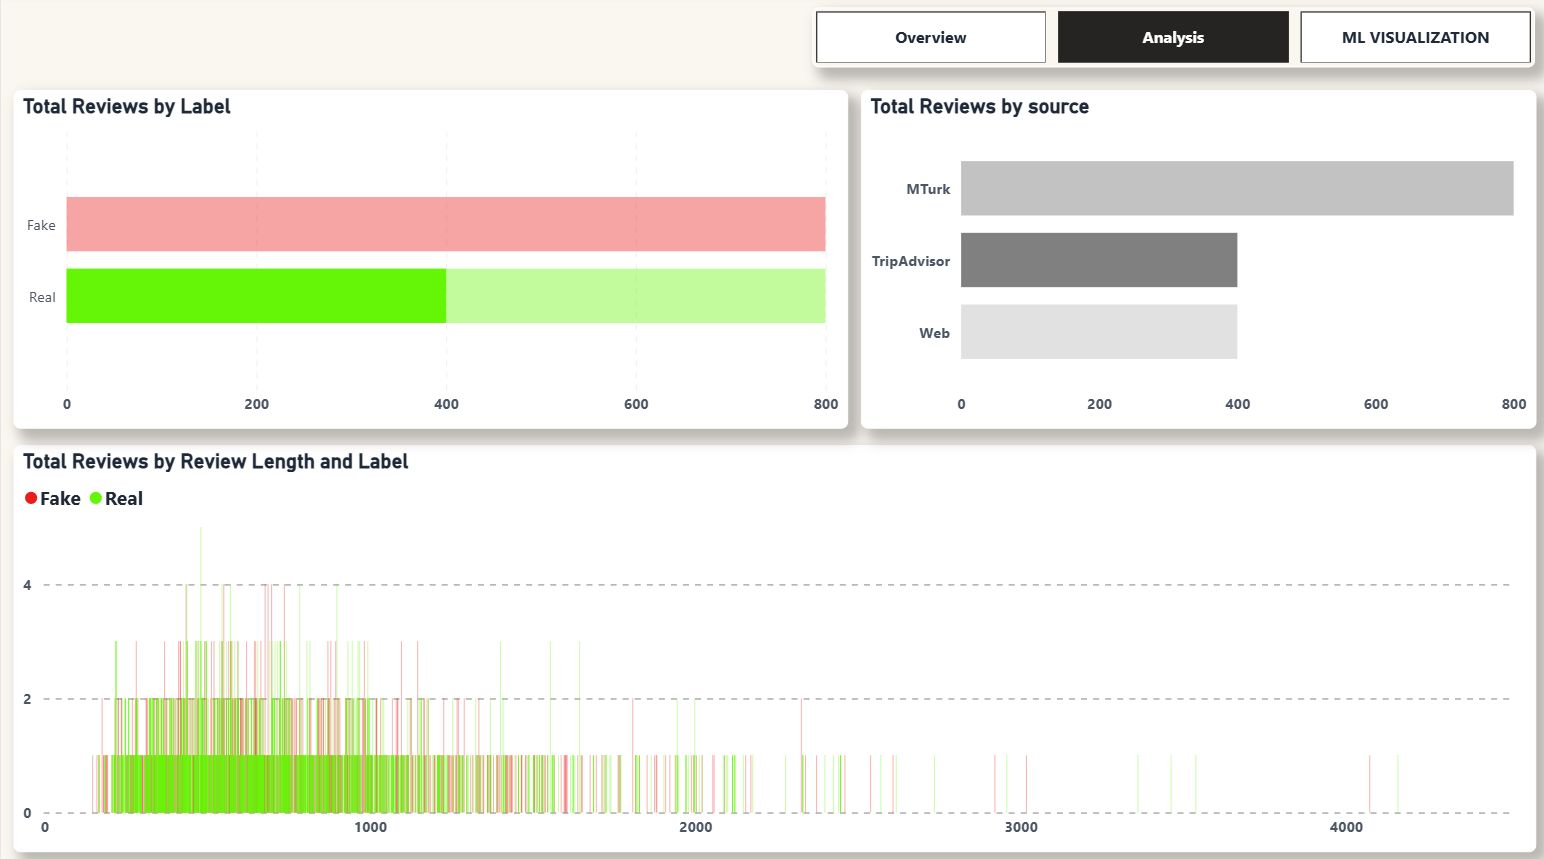

The page's visual inventory and layout, read from the dashboard file:
{"tool":"powerbi","page":{"name":"Analysis","canvas":[1280,720],"ordinal":1},"visuals":[{"type":"clusteredColumnChart","fields":{"Category":["deceptive-opinion.Review Length"],"Series":["deceptive-opinion.Label"],"Y":["deceptive-opinion.Total Reviews"]},"box":[10.2,372.6,1262.4,337.6],"z":0},{"type":"clusteredBarChart","fields":{"Y":["deceptive-opinion.Total Reviews"],"Category":["deceptive-opinion.Label"]},"box":[10.2,79,692.2,281.2],"z":1000},{"type":"clusteredBarChart","fields":{"Category":["deceptive-opinion.source"],"Y":["deceptive-opinion.Total Reviews"]},"box":[712.5,79,560.1,281.2],"z":2000},{"type":"pageNavigator","box":[673,10.2,599.6,49.7],"z":3000}]}

Visuals, with their boxes in screenshot pixels (x1, y1, x2, y2), scaled from the page's 1280x720 canvas onto the 1544x859 screenshot:
clusteredColumnChart - deceptive-opinion.Review Length x deceptive-opinion.Label: pyautogui.locateOnScreen(12, 445, 1535, 847)
clusteredBarChart - deceptive-opinion.Total Reviews x deceptive-opinion.Label: pyautogui.locateOnScreen(12, 94, 847, 430)
clusteredBarChart - deceptive-opinion.source x deceptive-opinion.Total Reviews: pyautogui.locateOnScreen(859, 94, 1535, 430)
pageNavigator: pyautogui.locateOnScreen(812, 12, 1535, 71)
